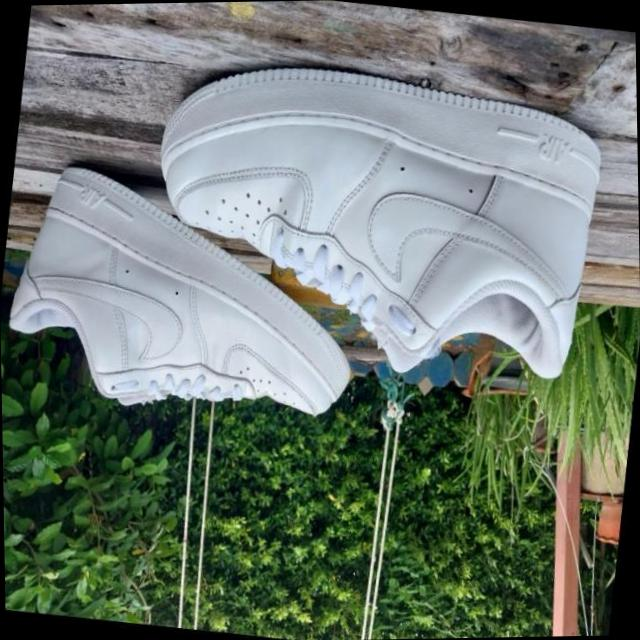nike_original_airforce: (134, 38, 616, 392), (0, 147, 377, 436)
